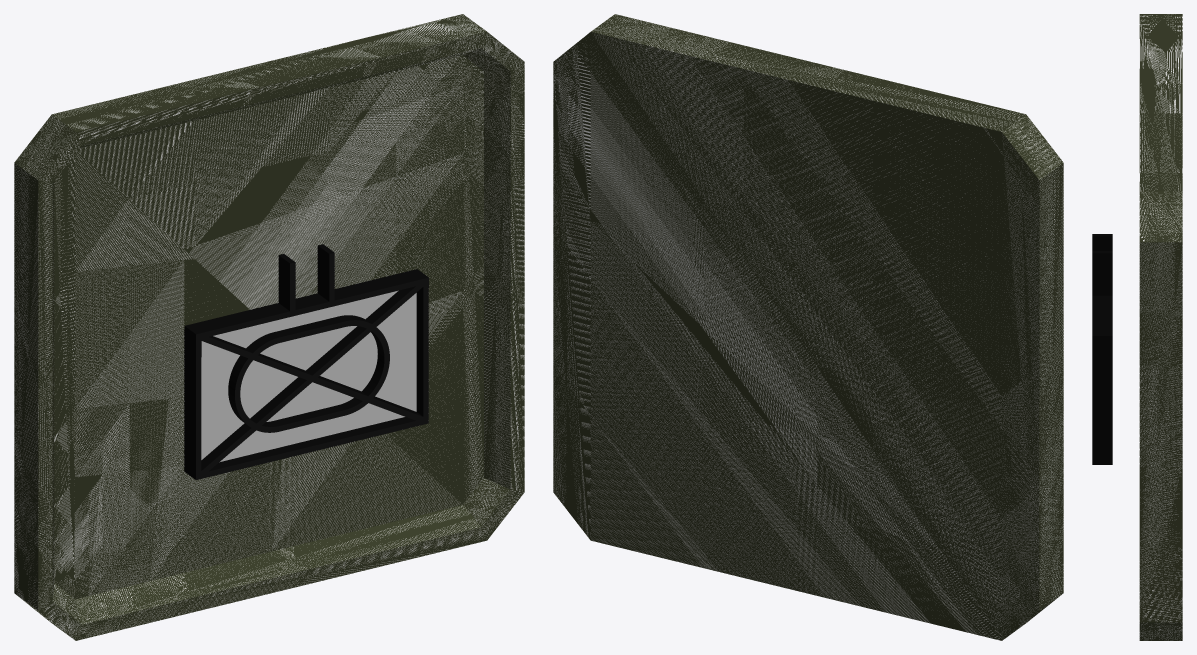
The model's file is ORBAT_-_1.obj.
3 views of the same model, side by side, from view 1: azimuth 30°, elevation 25°; view 2: azimuth 150°, elevation 25°; view 3: azimuth 270°, elevation 25° (orthographic). The views are drawn at different scales.
Parts seen in each view (by area): view 1: Button.001_ID13, Button_ID3, SM_ORBAT_-_1_path1763-2.104; view 2: Button_ID3; view 3: Button_ID3, SM_ORBAT_-_1_path1763-2.104.
Boxes of the visible parts, x1,y1,x2,y2 form: Button.001_ID13: (52, 48, 510, 624); Button_ID3: (14, 14, 524, 640); SM_ORBAT_-_1_path1763-2.104: (184, 244, 428, 479); Button_ID3: (553, 14, 1063, 640); Button_ID3: (1139, 14, 1182, 640); SM_ORBAT_-_1_path1763-2.104: (1092, 234, 1112, 464).
Size of the model in its own units: 1 by 1 by 0.1819.
